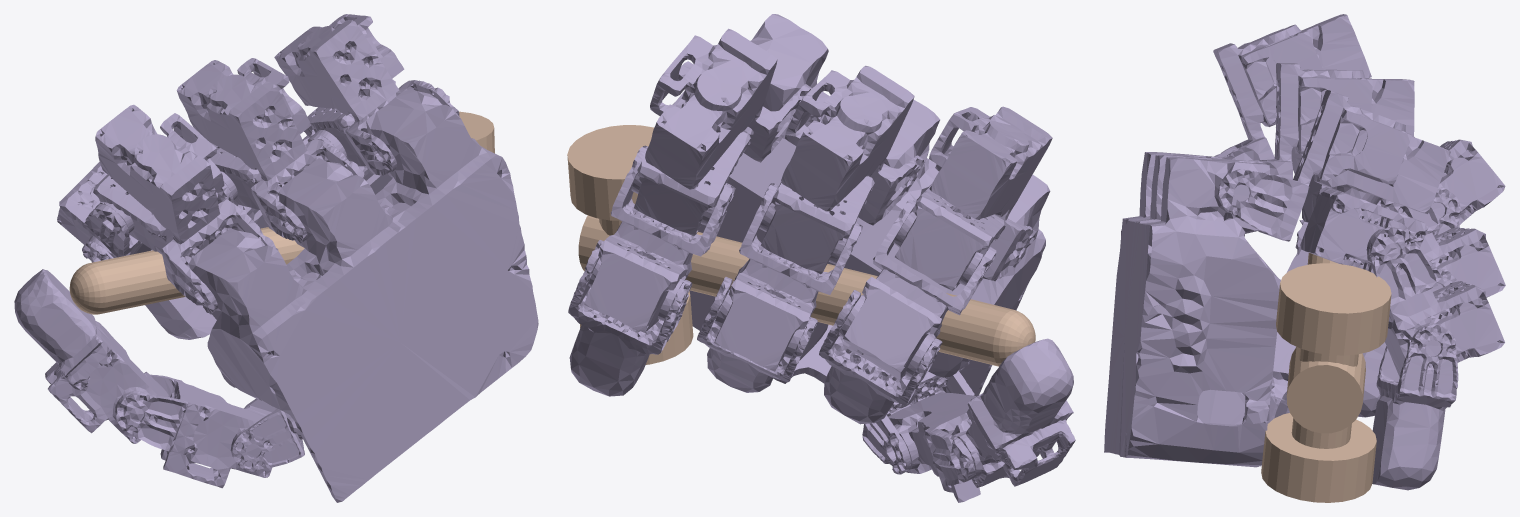
Rendered from case-06.glb.
3 renders of one model, left to right at view 1: azimuth 30°, elevation 25°; view 2: azimuth 150°, elevation 25°; view 3: azimuth 270°, elevation 25°, orthographic. The views are drawn at different scales.
Visible parts, largest first — view 1: world, surface.obj; view 2: world, surface.obj; view 3: world, surface.obj.
Boxes of the visible parts, x1,y1,x2,y2 form: world: [14, 14, 538, 502]; surface.obj: [69, 111, 494, 314]; world: [568, 14, 1075, 502]; surface.obj: [567, 125, 1035, 366]; world: [1104, 14, 1505, 490]; surface.obj: [1261, 253, 1391, 502].
Size of the model in its own units: 0.1992 by 0.1643 by 0.1364.
